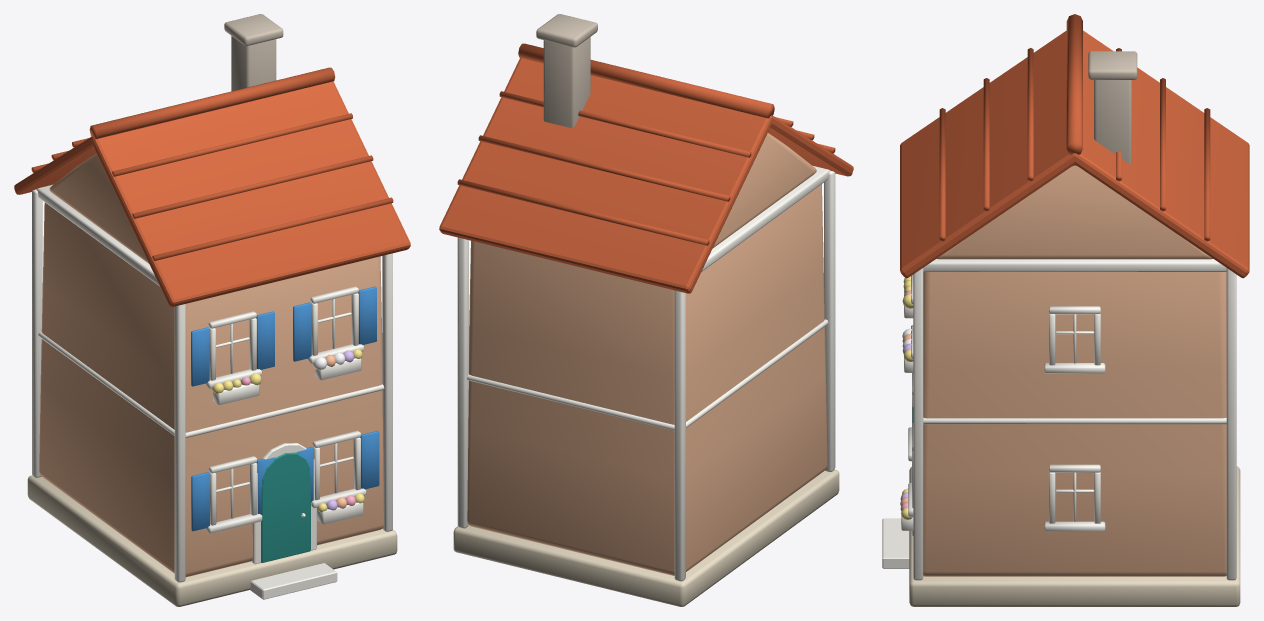
The model's file is house_a.glb.
3 renders of one model, left to right at view 1: azimuth 30°, elevation 25°; view 2: azimuth 150°, elevation 25°; view 3: azimuth 270°, elevation 25°, orthographic. The views are drawn at different scales.
Visible parts, largest first — view 1: House_A_Wall, House_A_Roof, House_A_Trim, House_A_Plinth, House_A_WindowTrim, House_A_RoofTiles, House_A_Shutters, House_A_Door, House_A_Chimney, House_A_DoorFrame, House_A_Flowers; view 2: House_A_Wall, House_A_Roof, House_A_Trim, House_A_Plinth, House_A_RoofTiles, House_A_Chimney; view 3: House_A_Wall, House_A_Roof, House_A_Trim, House_A_Plinth, House_A_RoofTiles, House_A_WindowTrim, House_A_Chimney, House_A_DoorFrame, House_A_Flowers.
Part boxes in pixels (box(x1,y1,x2,y2)): House_A_Wall: box(39, 153, 383, 577); House_A_Roof: box(14, 81, 410, 306); House_A_Trim: box(32, 184, 392, 582); House_A_Plinth: box(27, 475, 397, 606); House_A_WindowTrim: box(205, 286, 366, 533); House_A_RoofTiles: box(31, 67, 393, 260); House_A_Shutters: box(191, 286, 379, 531); House_A_Door: box(261, 452, 310, 562); House_A_Chimney: box(224, 14, 283, 91); House_A_DoorFrame: box(250, 443, 337, 599); House_A_Flowers: box(212, 349, 364, 512); House_A_Wall: box(467, 133, 827, 575); House_A_Roof: box(439, 58, 853, 293); House_A_Trim: box(457, 166, 835, 581); House_A_Plinth: box(453, 469, 839, 606); House_A_RoofTiles: box(457, 43, 835, 245); House_A_Chimney: box(536, 14, 597, 127); House_A_Wall: box(923, 165, 1226, 576); House_A_Roof: box(900, 30, 1249, 278); House_A_Trim: box(913, 259, 1236, 580); House_A_Plinth: box(909, 466, 1240, 606); House_A_RoofTiles: box(939, 14, 1210, 241); House_A_WindowTrim: box(901, 275, 1105, 531); House_A_Chimney: box(1088, 51, 1137, 164); House_A_DoorFrame: box(882, 488, 909, 568); House_A_Flowers: box(900, 276, 913, 519).
Bounding box in the file's own units: 4.81 × 9.09 × 5.82.
